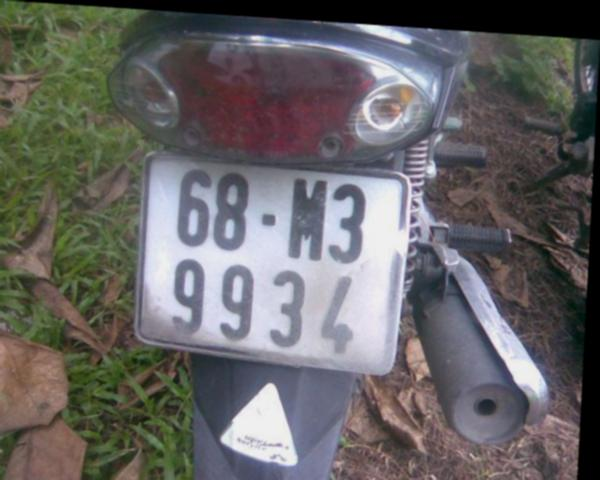License_Plate: (128, 145, 411, 377)
